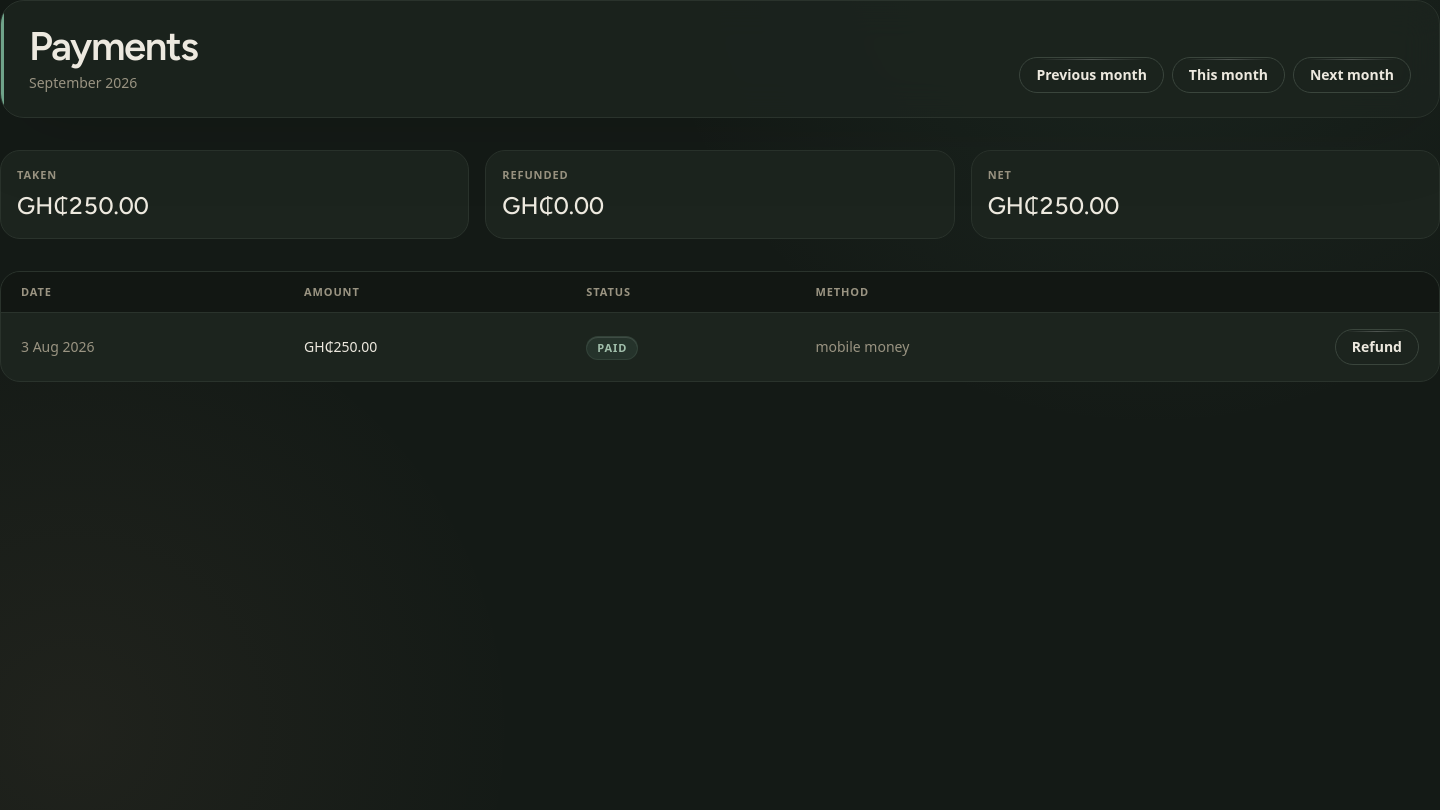
Test: PaymentsPage › names the amount before refunding, because money is leaving
The width and height of the screenshot is (1440, 810).
Click the button "Refund": [1377, 347] box [1335,329,1419,365]
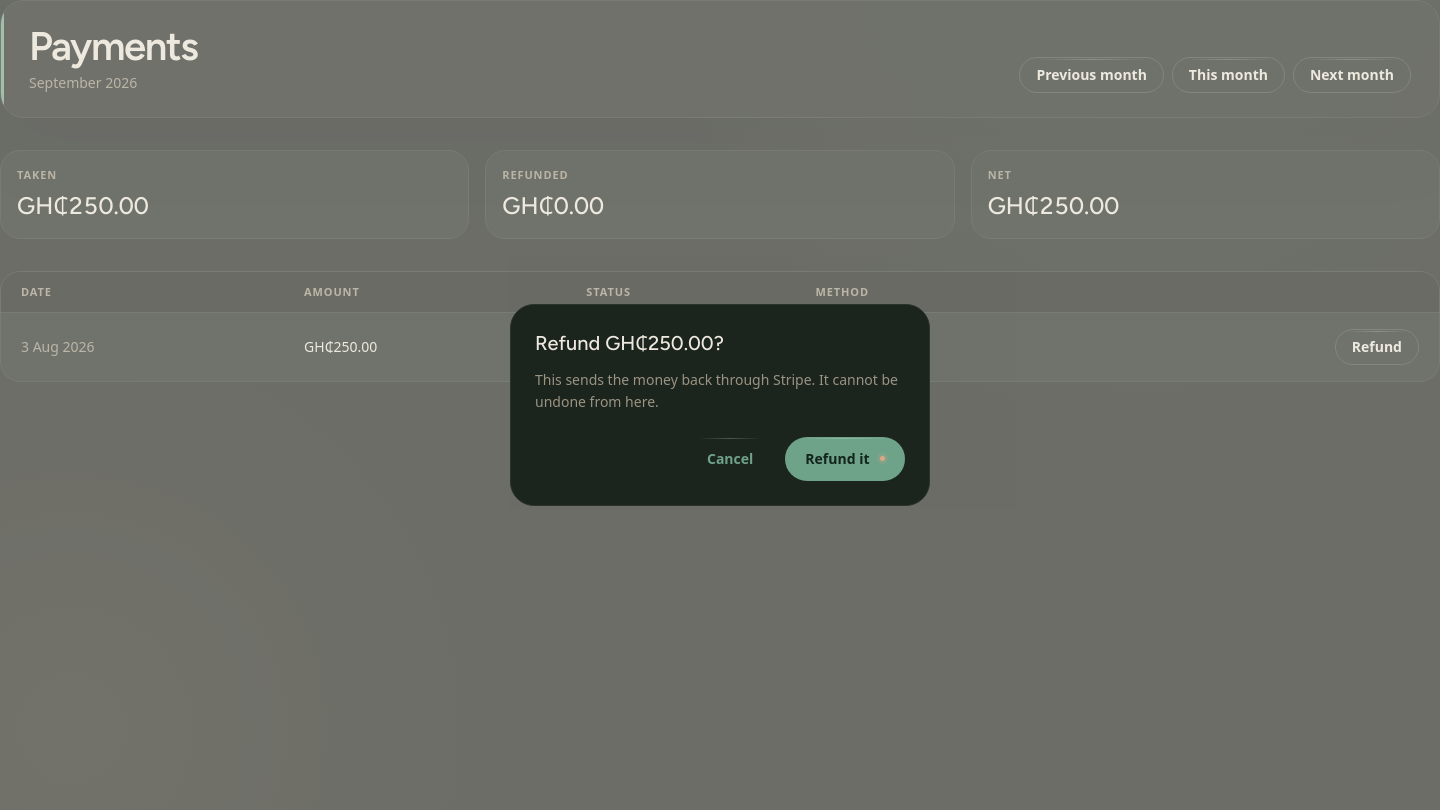
Now the dialog shows "GH₵250.00", box [605,331,714,355]
Now the dialog shows "cannot be undone", box [535,370,898,411]
